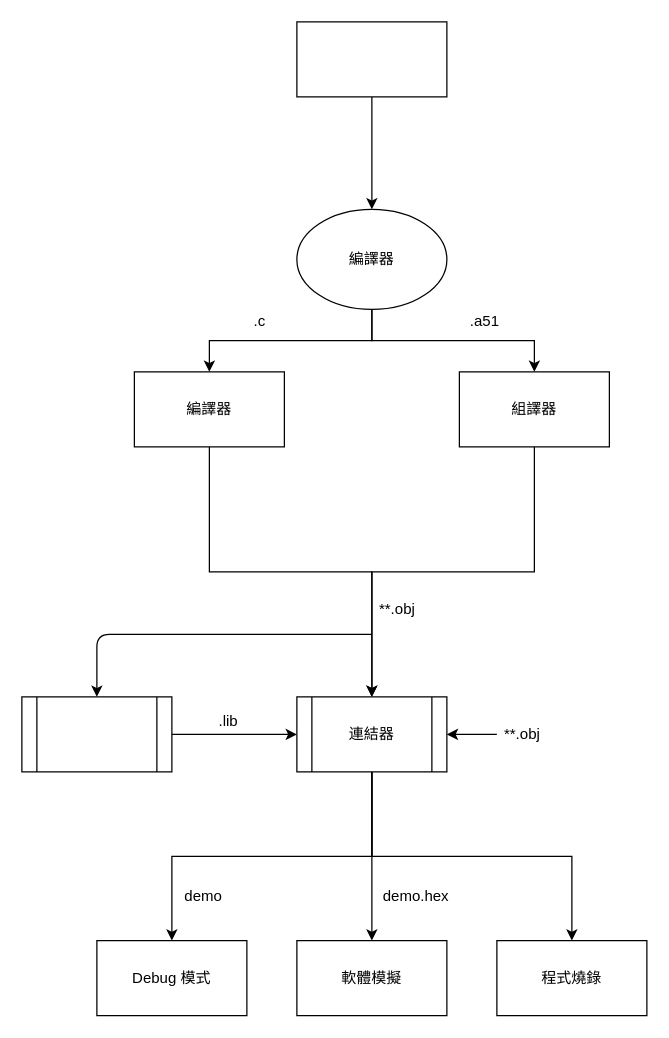
Image size: 669x1038. Some labels were removed from this diagram. Each missing label, with the centre of its shape:
"*.h / *.inc" belongs at point (371, 59).
"程式庫" belongs at point (96, 734).
